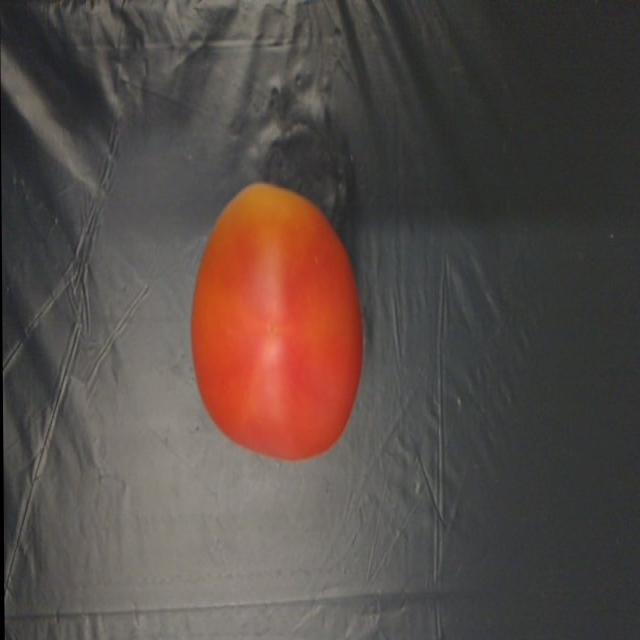sari: (171, 164, 389, 480)
